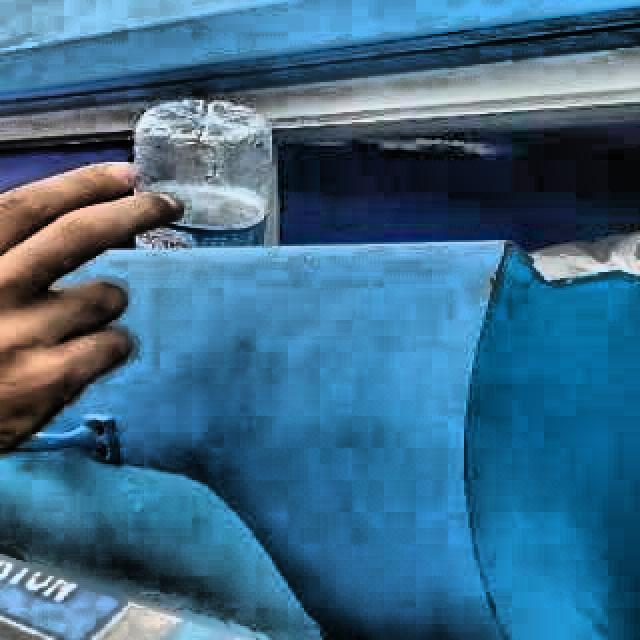plastic: (133, 98, 277, 248)
